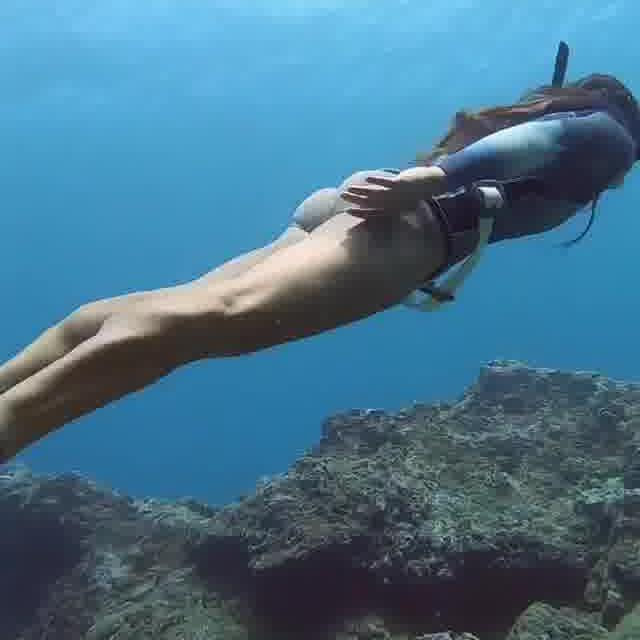human: (0, 38, 640, 532)
